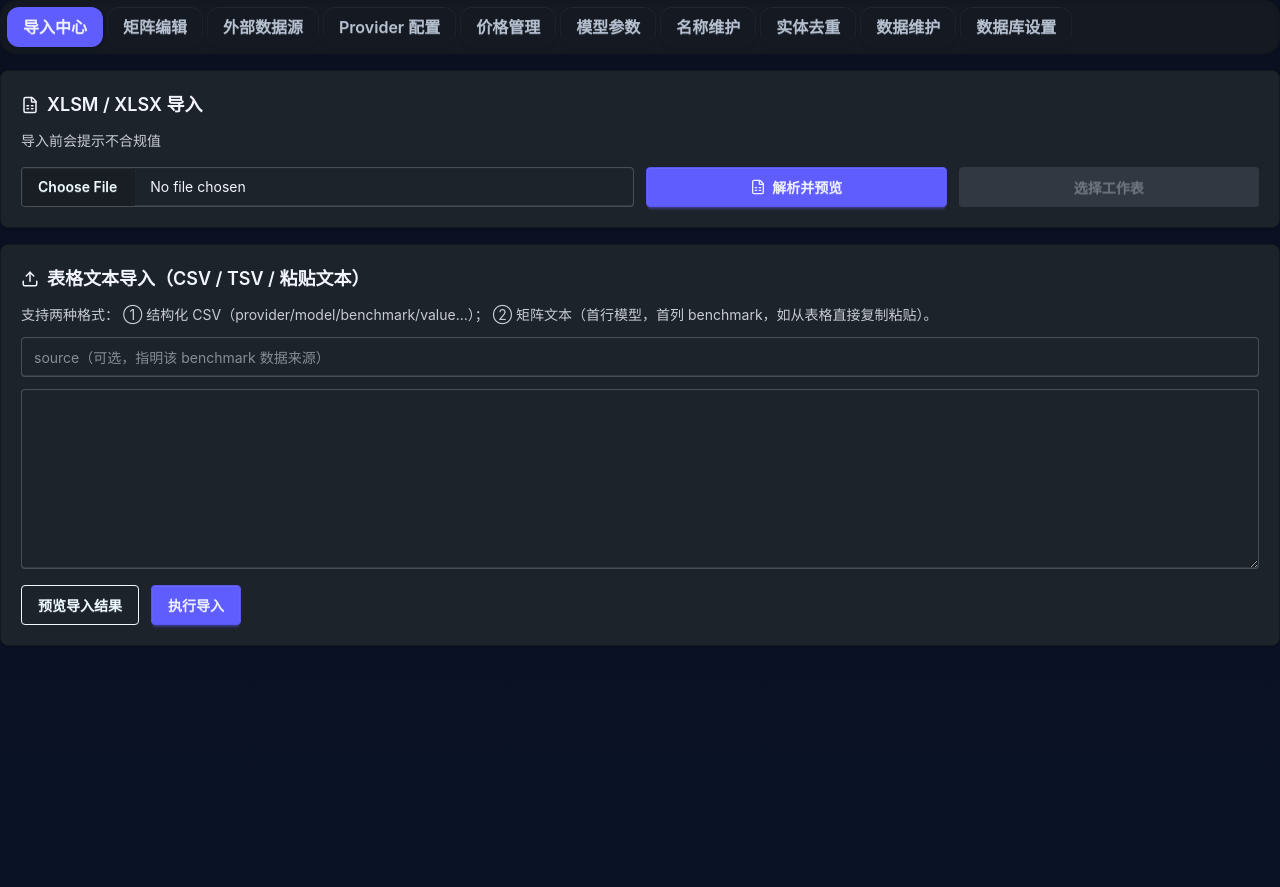
Test: AdminConsole text import › 矩阵预览表头显示 Benchmark/Type 计数
The width and height of the screenshot is (1280, 887).
Type "dummy" into the text box named "粘贴 CSV / 文本".
click(640, 479); type("dummy")  # box [21,389,1259,569]
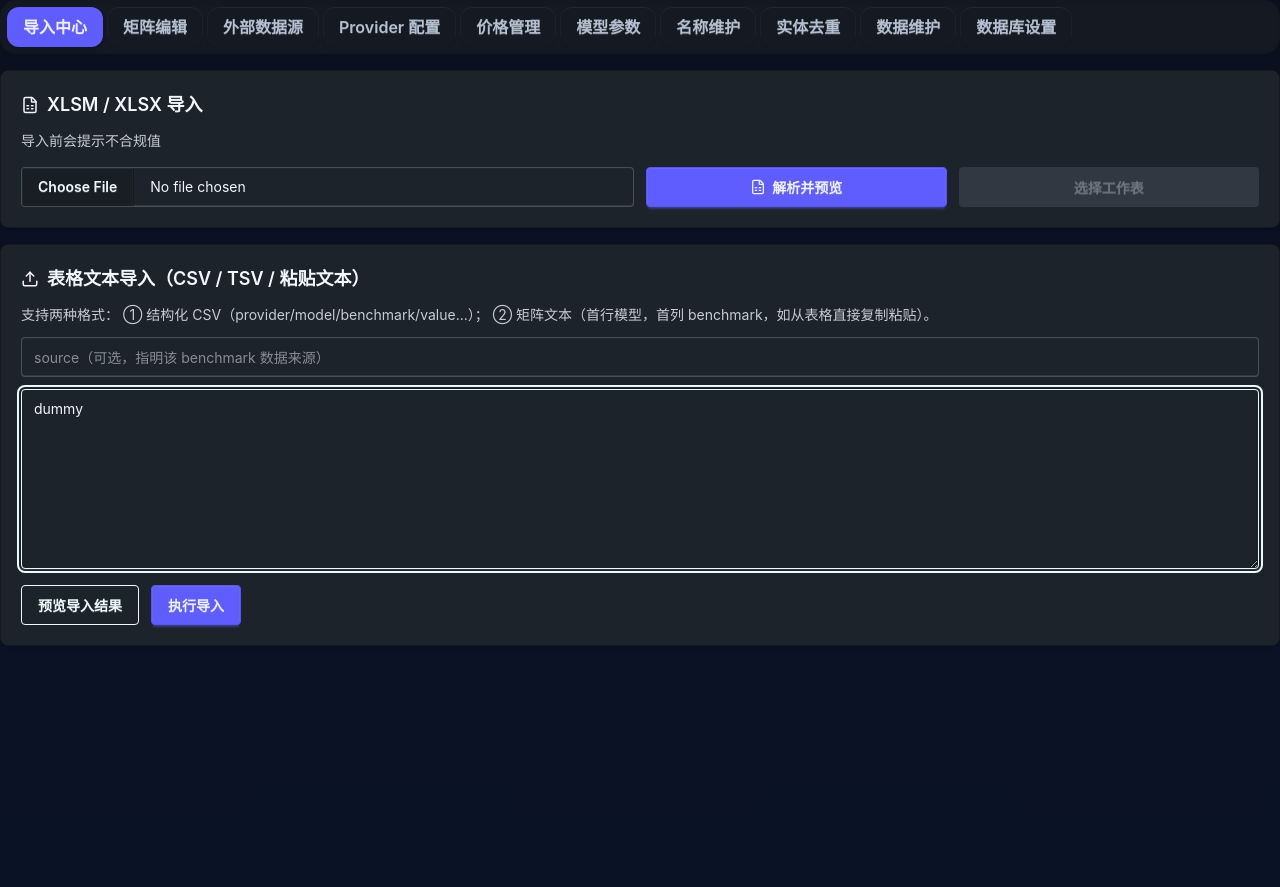
Click the button "预览导入结果".
click(80, 605)  # box [21,585,139,625]
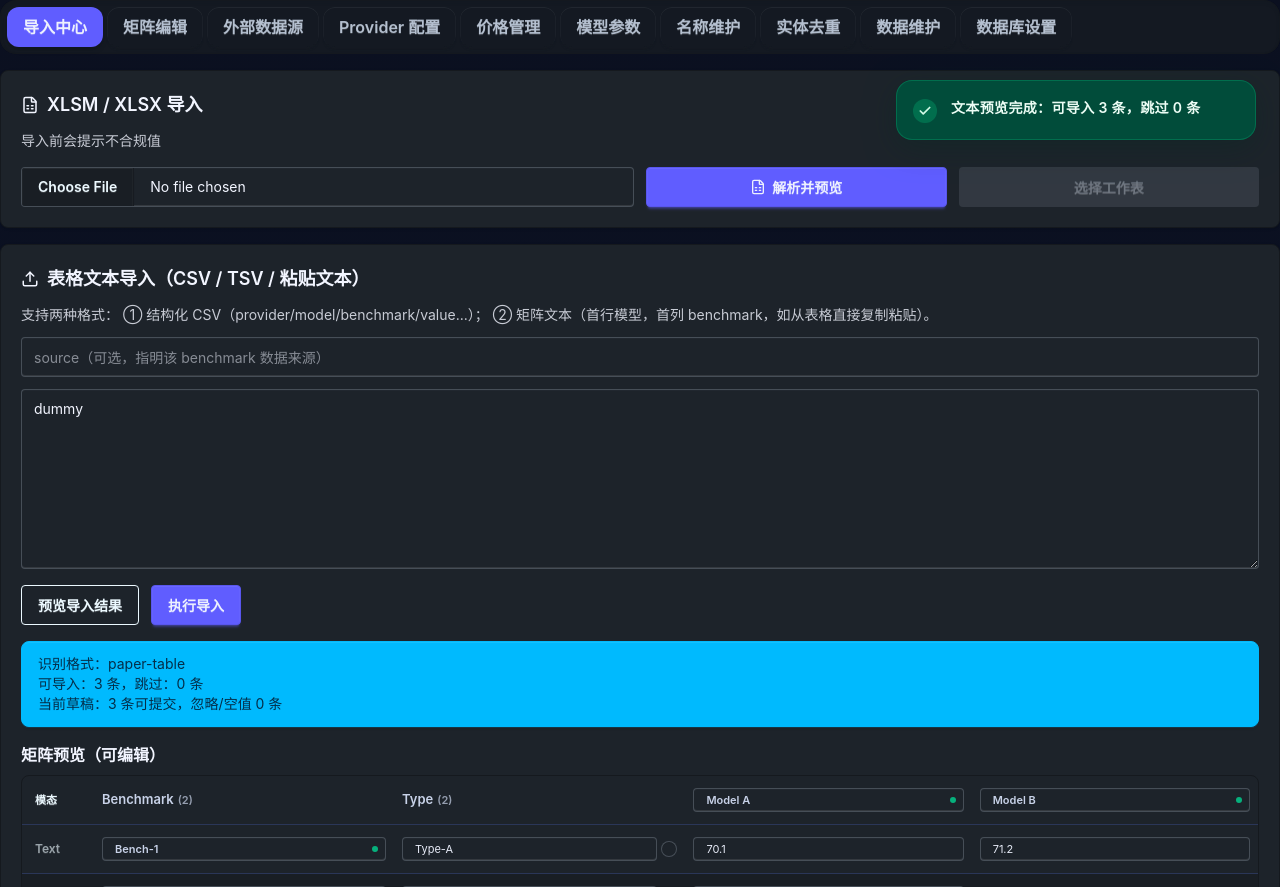
Expected: the column heading "Benchmark(2)" does not show "Benchmark 2", [94,776,394,824]
Now the column heading "Benchmark(2)" is shown, box [94,776,394,824]
Now the column heading "Type(2)" is shown, box [394,776,685,824]
